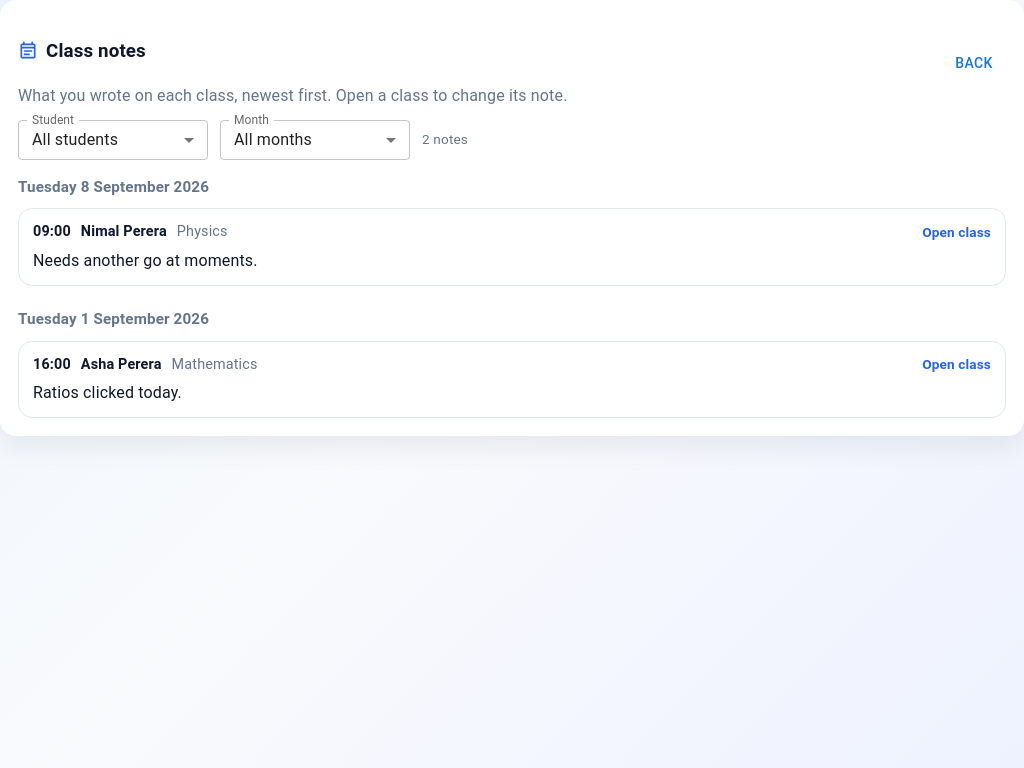
Test: ClassNotesView › offers only students and months that actually have notes
Click the dropdown labelled "All students". click: (75, 140)
box: [32,130,118,149]
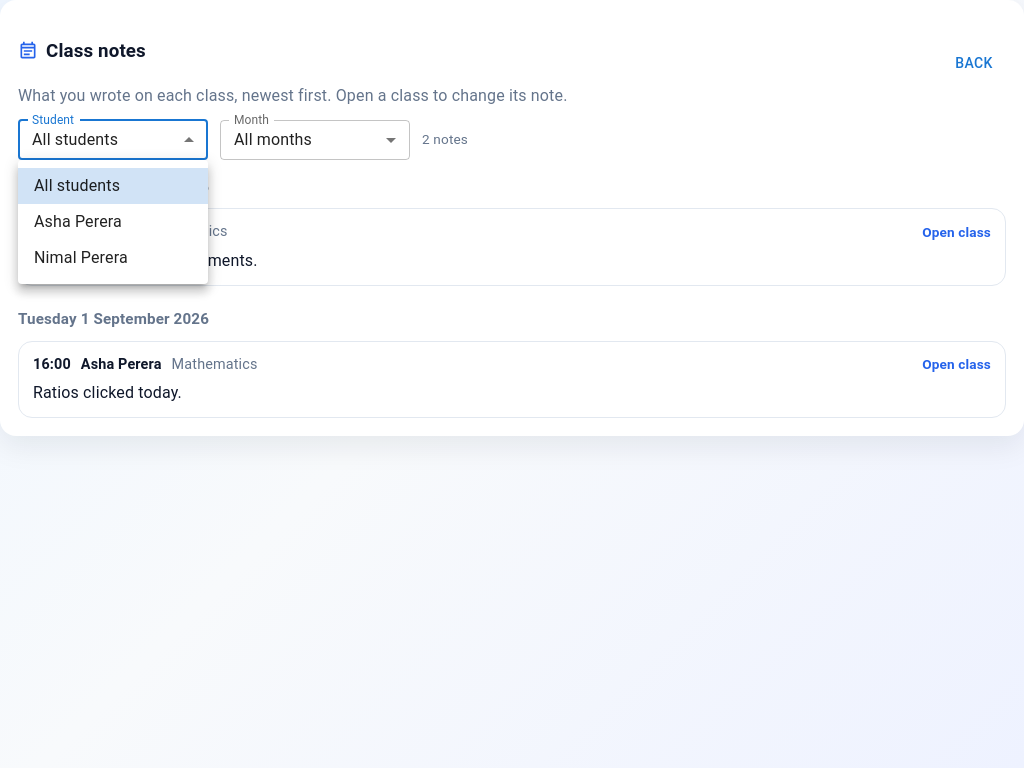
Result: the options read "All students", "Asha Perera", "Nimal Perera", in this order at [18,168,208,204]; [34,212,122,231]; [34,248,128,267]
